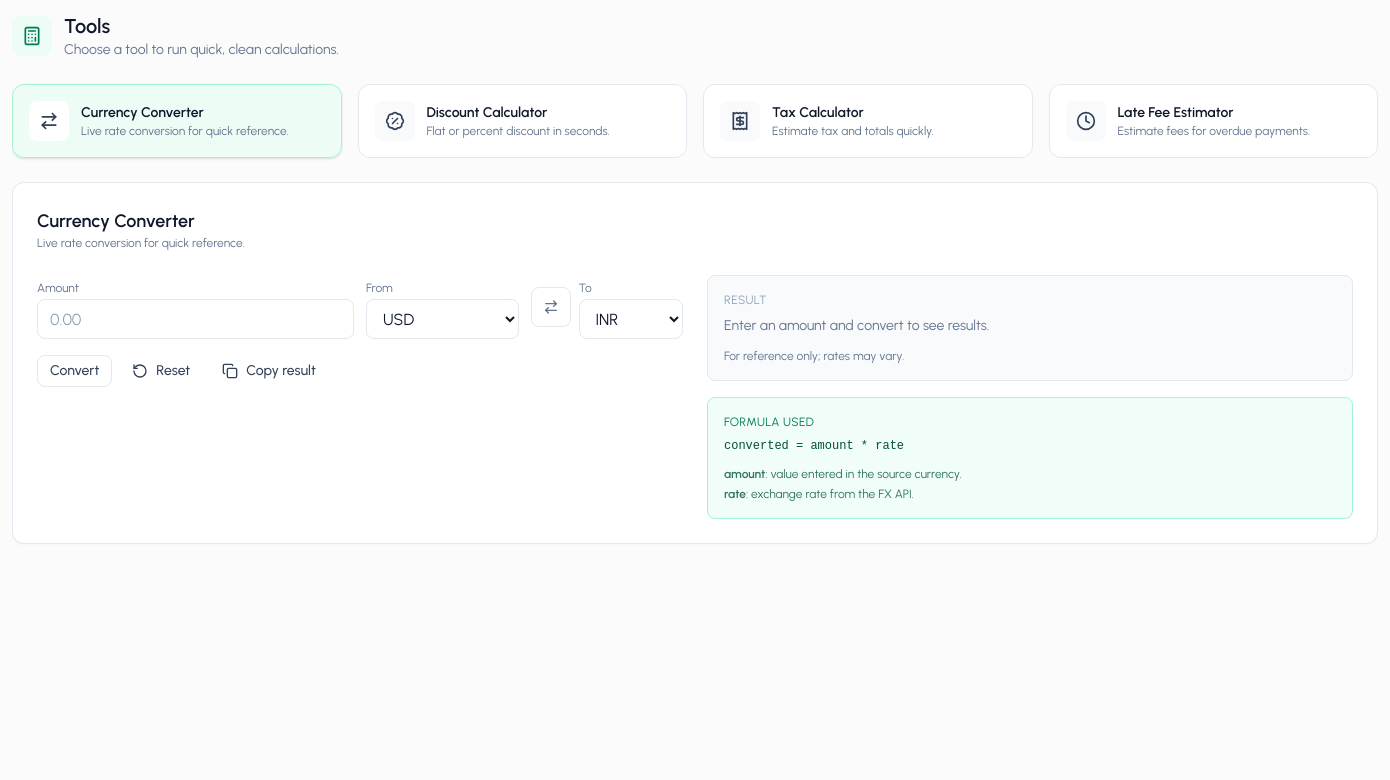
Tools discount calculator computes correctly
Click the button "Discount Calculator Flat or percent discount in seconds." at (522, 121), box x1=358 y1=84 x2=687 y2=158
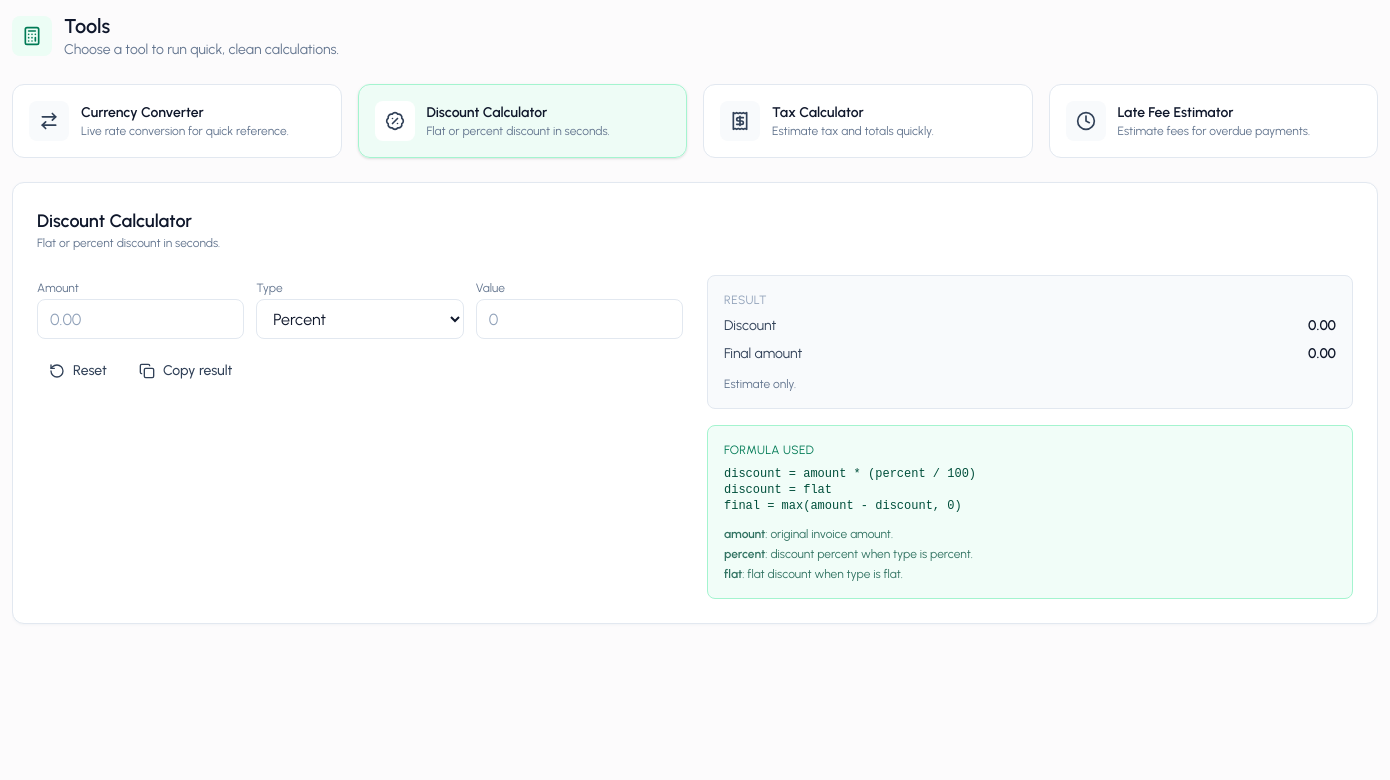
Type "100" into the number field with placeholder "0.00" at (141, 319), box x1=37 y1=299 x2=244 y2=339
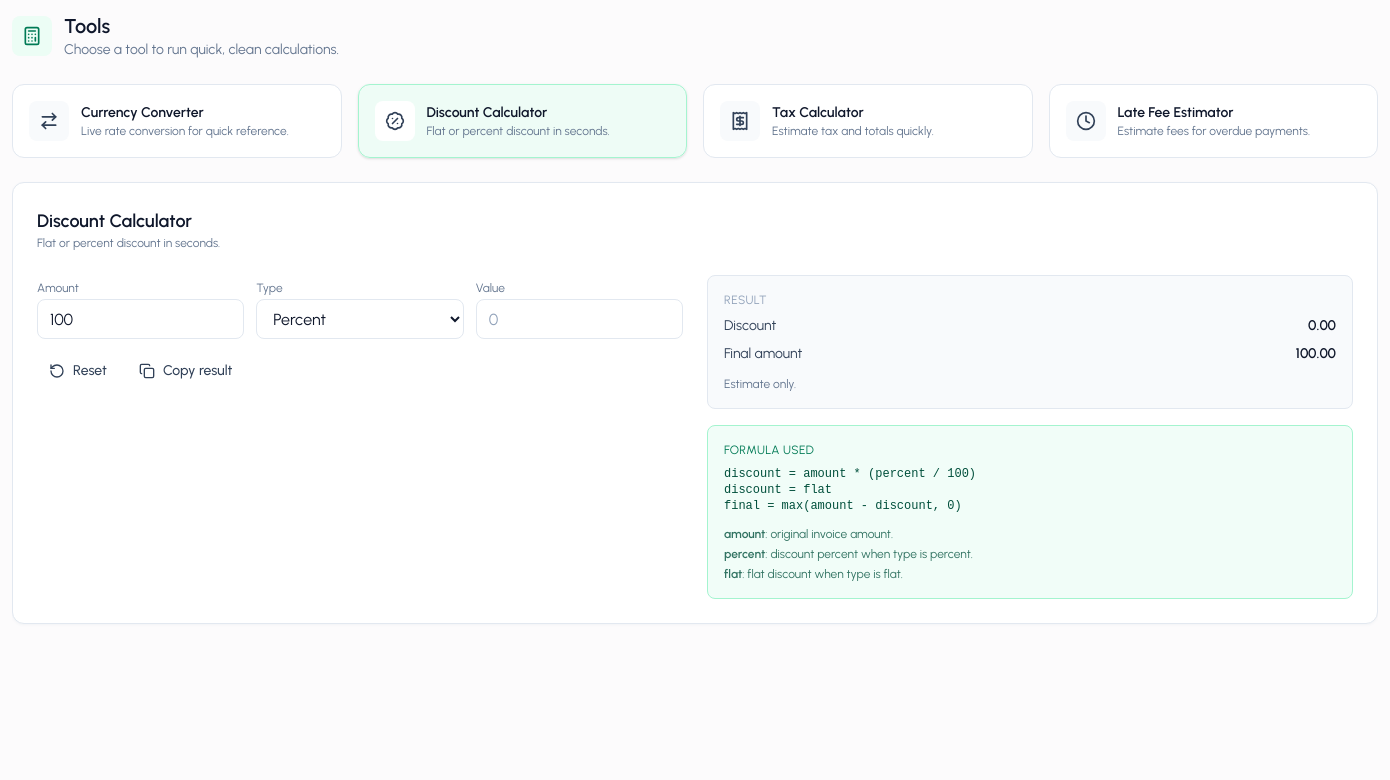
Type "10" into the number field with placeholder "0" at (579, 319), box x1=476 y1=299 x2=683 y2=339
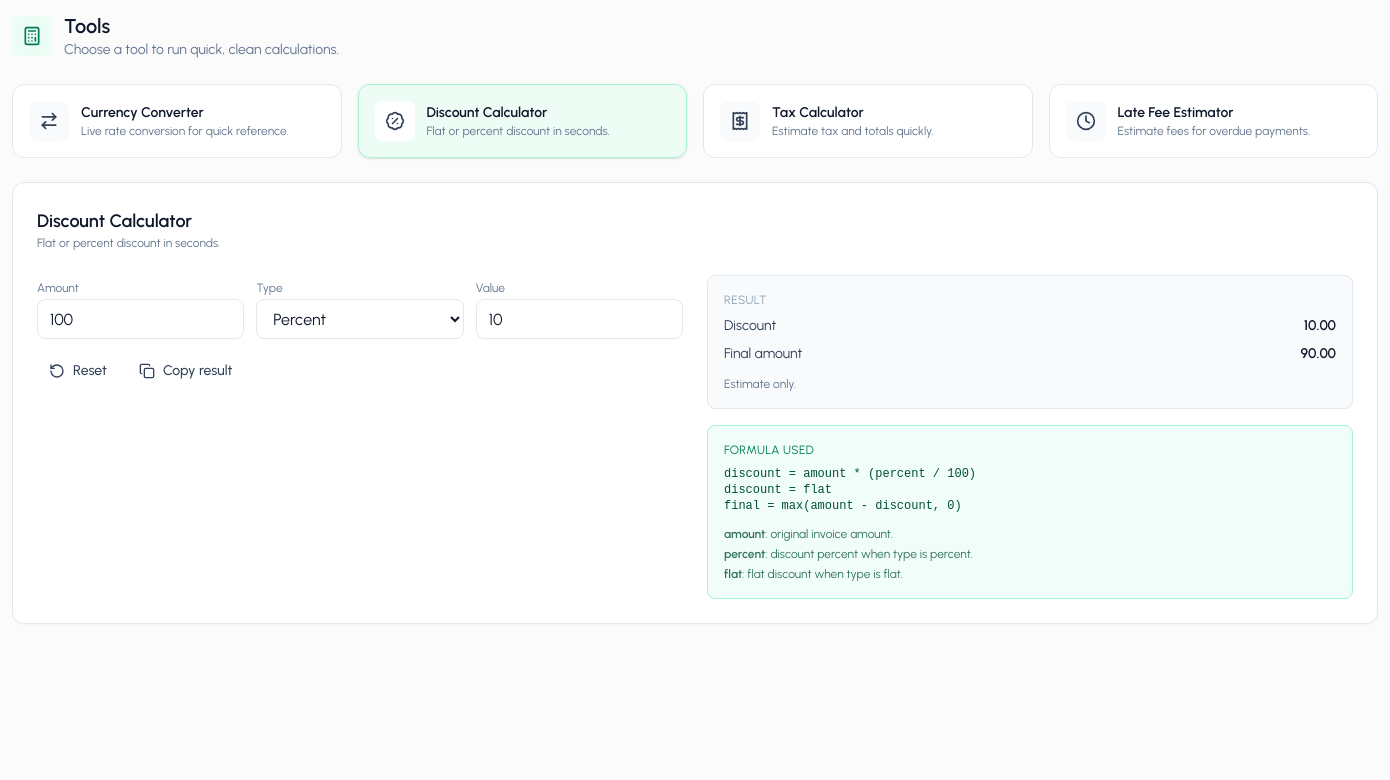
Result: the text "10.00" is shown at x1=1304 y1=316 x2=1336 y2=336
Result: the text "90.00" is shown at x1=1300 y1=344 x2=1336 y2=364
